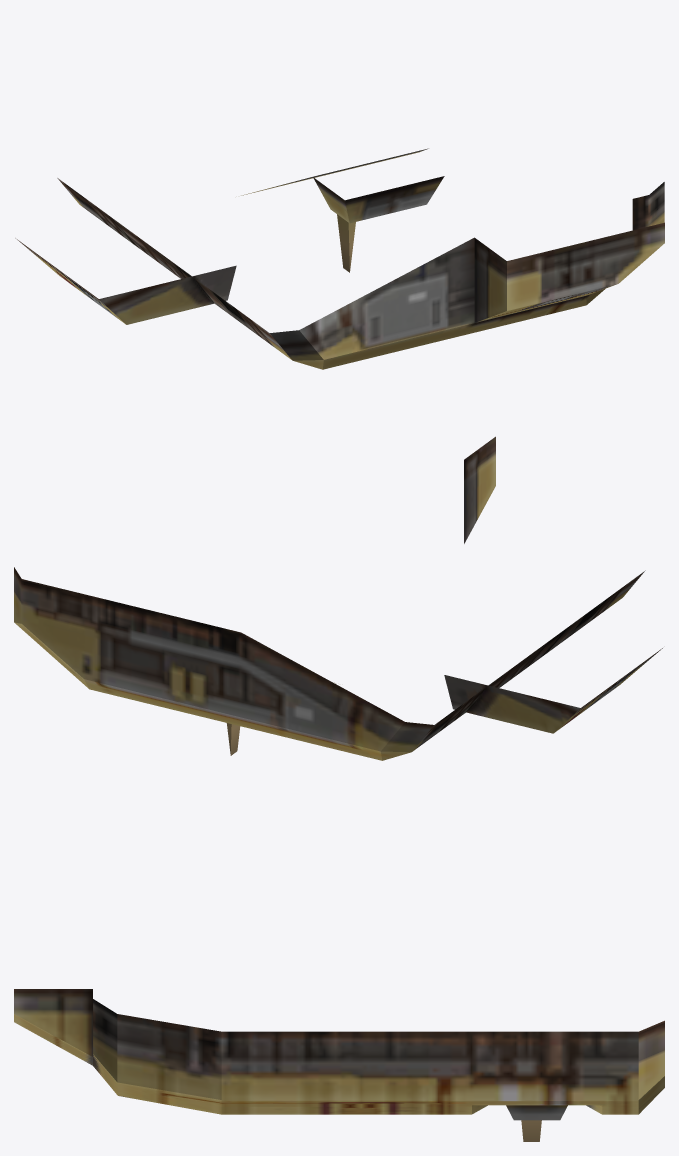
Rendered from hangar_hgn_battlecruiser_02_basic_t3_left.glb.
The picture shows the model from 3 angles, top to bottom: view 1: azimuth 30°, elevation 25°; view 2: azimuth 150°, elevation 25°; view 3: azimuth 270°, elevation 25°; orthographic projection. The views are drawn at different scales.
Parts seen in each view (by area): view 1: hgn_flagship_battlecruiser_02_hangar_01_l; view 2: hgn_flagship_battlecruiser_02_hangar_01_l; view 3: hgn_flagship_battlecruiser_02_hangar_01_l.
Boxes of the visible parts, left/top/right/bottom form: hgn_flagship_battlecruiser_02_hangar_01_l: left=15, top=148, right=664, bottom=369; hgn_flagship_battlecruiser_02_hangar_01_l: left=14, top=436, right=662, bottom=760; hgn_flagship_battlecruiser_02_hangar_01_l: left=14, top=989, right=664, bottom=1141.
Bounding box in the file's own units: 1.11 × 0.3628 × 0.9898.
1 material, 1 textured.
